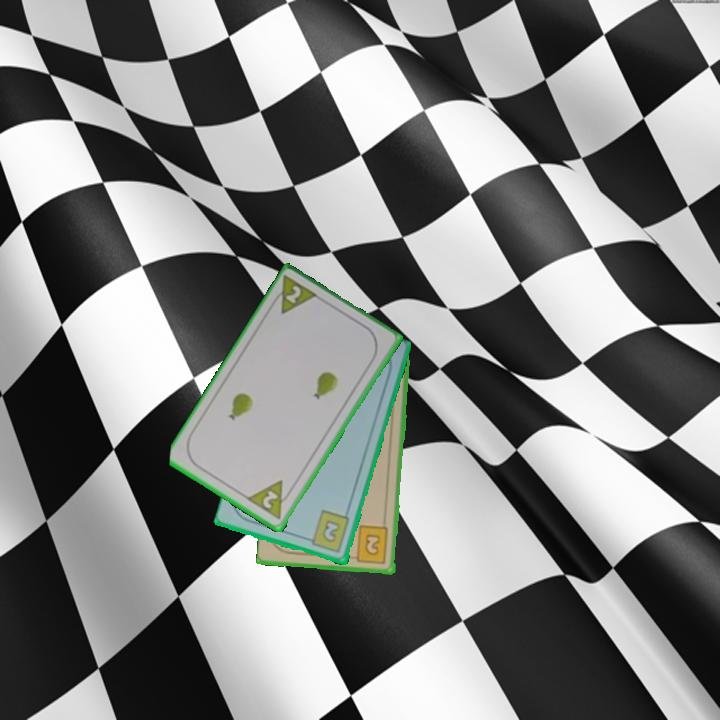2b: (303, 507, 353, 556), (347, 523, 391, 567)
2p: (267, 273, 322, 318), (244, 477, 296, 523)
